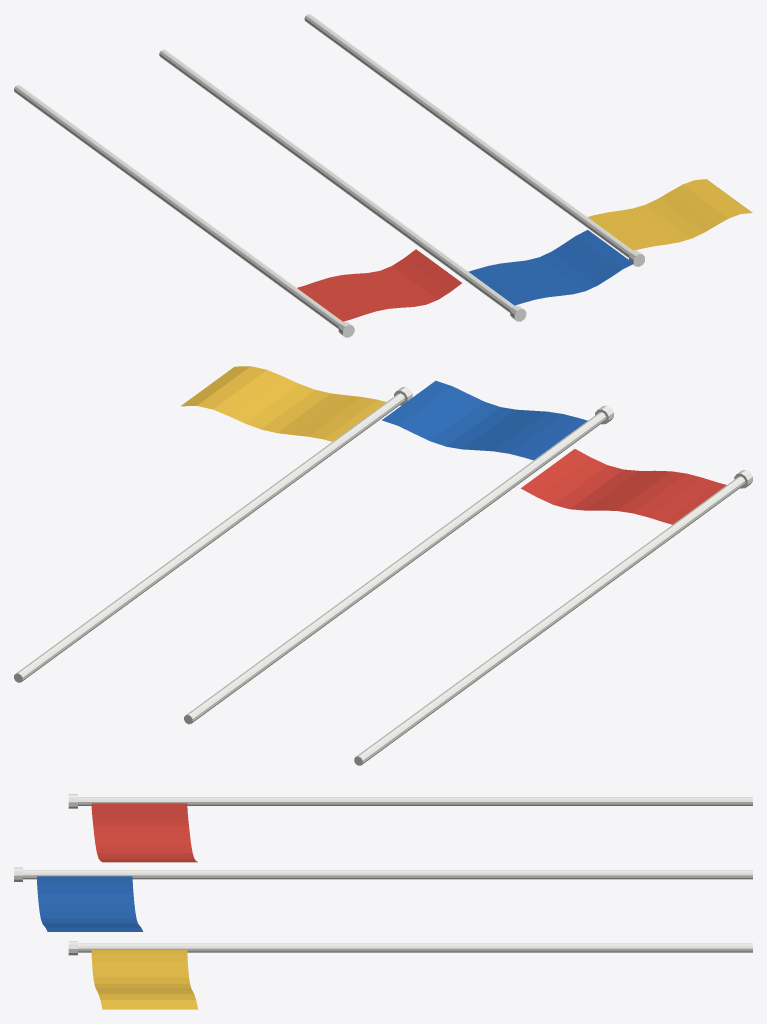
Rendered from drapeaux.glb.
The picture shows the model from 3 angles, top to bottom: view 1: azimuth 30°, elevation 25°; view 2: azimuth 150°, elevation 25°; view 3: azimuth 270°, elevation 25°; orthographic projection. The views are drawn at different scales.
Visible parts, largest first — view 1: pavillon.001, pavillon, pavillon.002, mat.001, mat.002, mat; view 2: pavillon.001, pavillon, pavillon.002, mat.001, mat, mat.002; view 3: mat.001, mat.002, mat, pavillon.002, pavillon, pavillon.001.
Boxes of the visible parts, <box> form: pavillon.001: <box>468,230,633,305</box>; pavillon: <box>297,249,461,321</box>; pavillon.002: <box>588,179,752,250</box>; mat.001: <box>159,49,514,312</box>; mat.002: <box>304,14,633,257</box>; mat: <box>14,85,343,328</box>; pavillon.001: <box>382,380,587,460</box>; pavillon: <box>521,449,726,524</box>; pavillon.002: <box>181,366,386,441</box>; mat.001: <box>184,412,606,724</box>; mat: <box>354,476,745,765</box>; mat.002: <box>14,393,404,682</box>; mat.001: <box>23,870,752,879</box>; mat.002: <box>78,943,752,952</box>; mat: <box>78,797,752,805</box>; pavillon.002: <box>91,949,198,1009</box>; pavillon: <box>91,803,197,862</box>; pavillon.001: <box>37,876,143,931</box>.
Bounding box in the file's own units: 5.58 × 0.1798 × 8.1.
